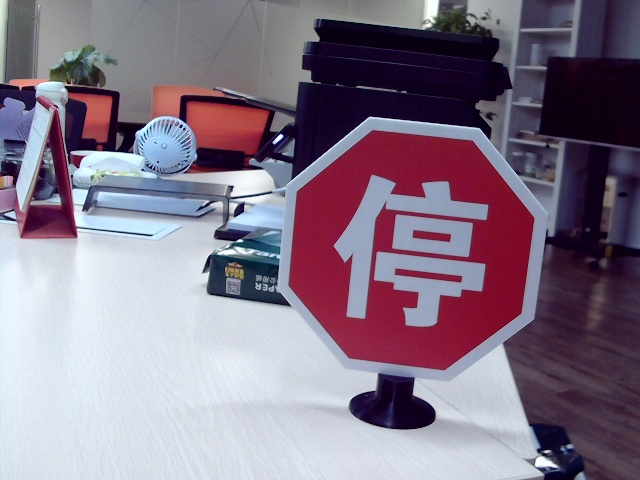stop: (334, 169, 484, 330)
